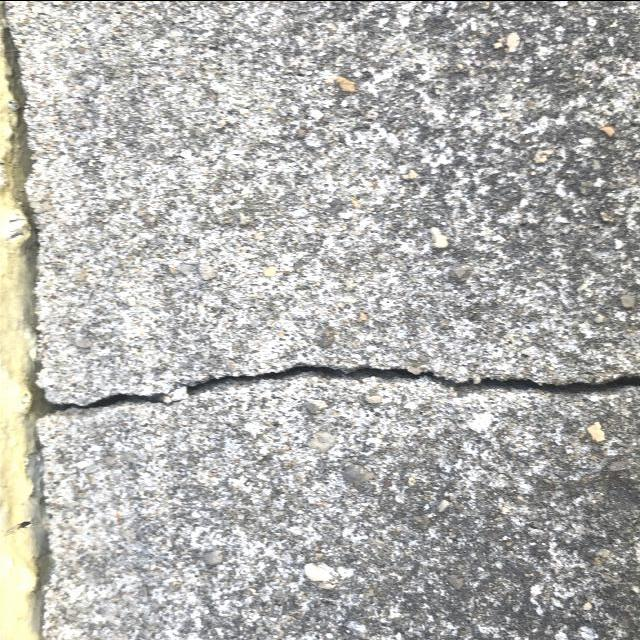SurfaceCrack: (5, 293, 640, 480)
